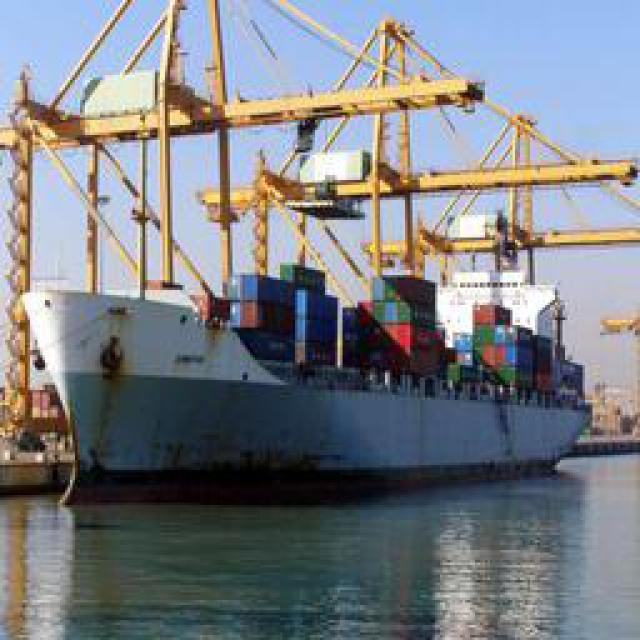Ship: (9, 1, 619, 501)
